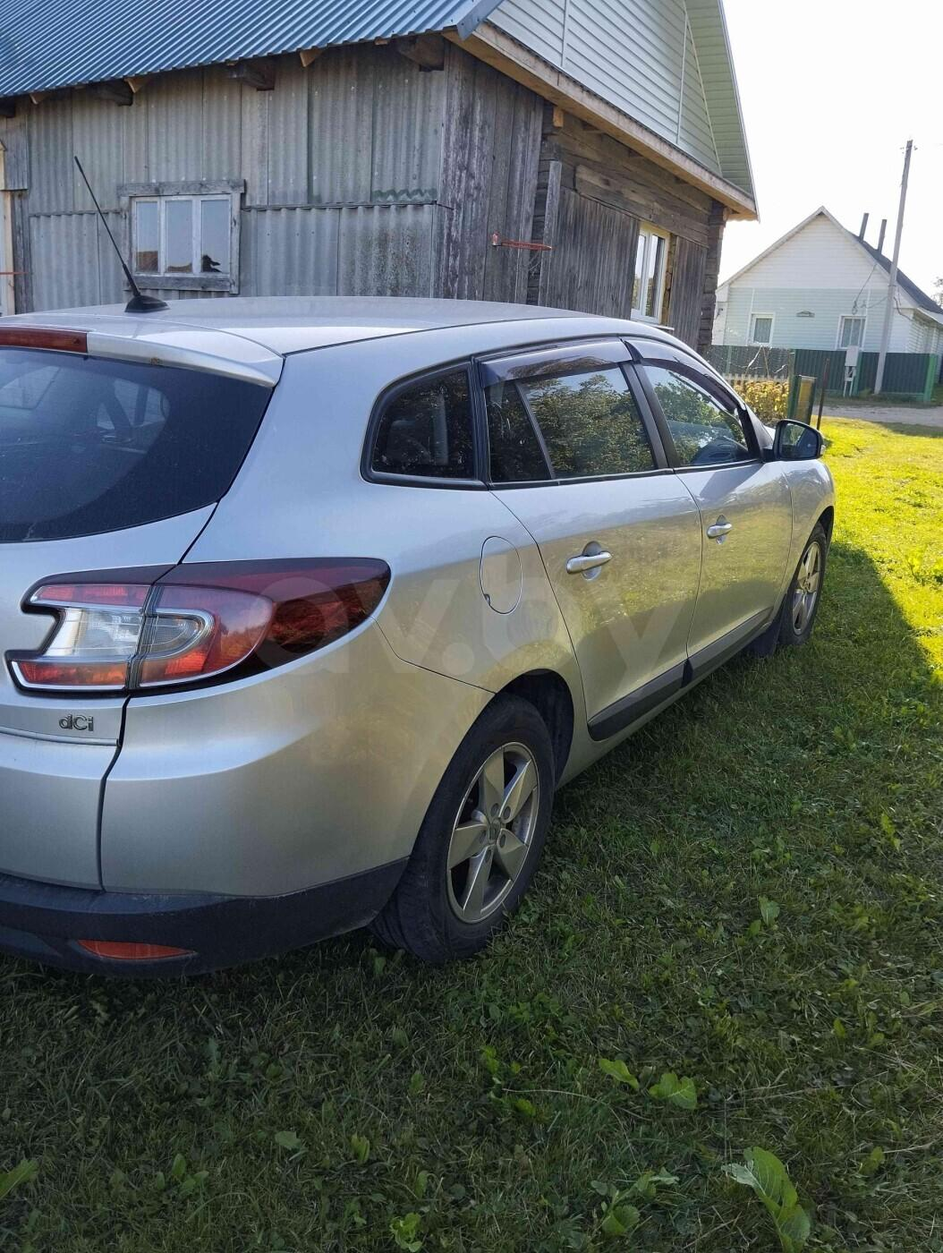Megane_2008-2014: (0, 281, 857, 1015)
